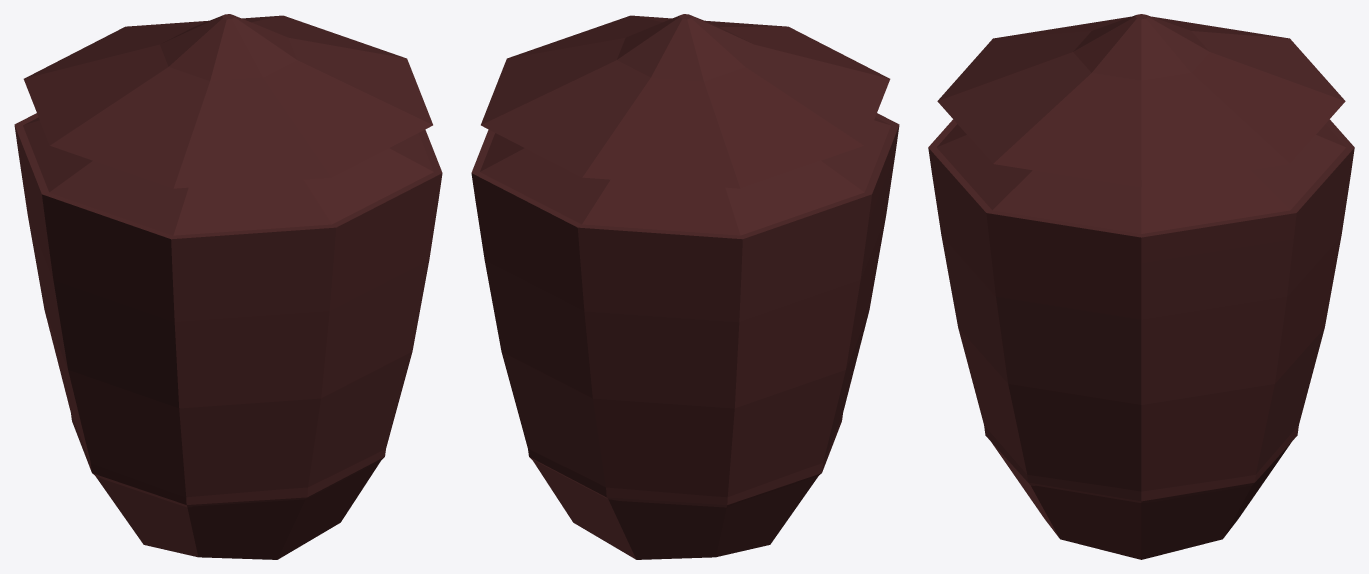
The model's file is AlhunsVaso3.fbx.
The picture shows the model from 3 angles, left to right: view 1: azimuth 30°, elevation 25°; view 2: azimuth 150°, elevation 25°; view 3: azimuth 270°, elevation 25°; orthographic projection.
Parts seen in each view (by area): view 1: Cube.021; view 2: Cube.021; view 3: Cube.021.
Boxes of the visible parts, x1,y1,x2,y2 form: Cube.021: (14, 14, 442, 559); Cube.021: (471, 14, 899, 559); Cube.021: (928, 14, 1354, 559).
Size of the model in its own units: 74.93 by 103 by 74.93.
